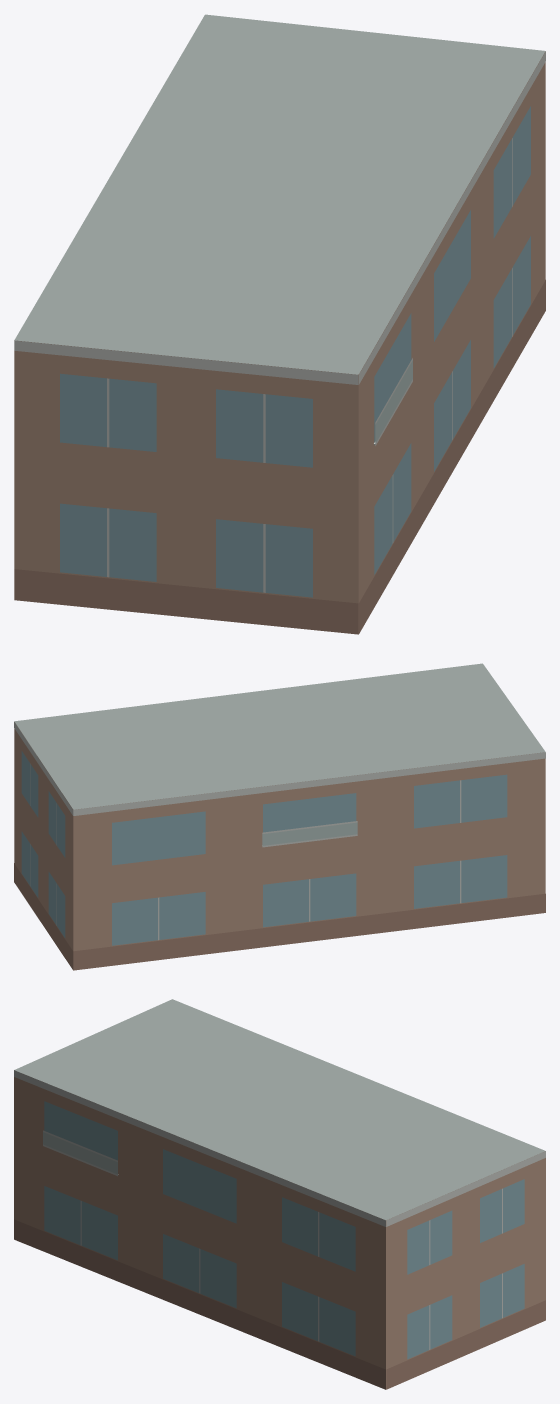
The model's file is survey-upis-32938187.glb.
The picture shows the model from 3 angles, top to bottom: view 1: azimuth 30°, elevation 25°; view 2: azimuth 150°, elevation 25°; view 3: azimuth 270°, elevation 25°; orthographic projection. The views are drawn at different scales.
Visible parts, largest first — view 1: survey-upis-32938187.tmp; view 2: survey-upis-32938187.tmp; view 3: survey-upis-32938187.tmp.
Part boxes in pixels (x1=…): survey-upis-32938187.tmp: x1=14, y1=14, x2=545, y2=634; survey-upis-32938187.tmp: x1=14, y1=663, x2=545, y2=970; survey-upis-32938187.tmp: x1=14, y1=999, x2=545, y2=1389.
Size of the model in its own units: 17.1 by 6.1 by 17.36.
